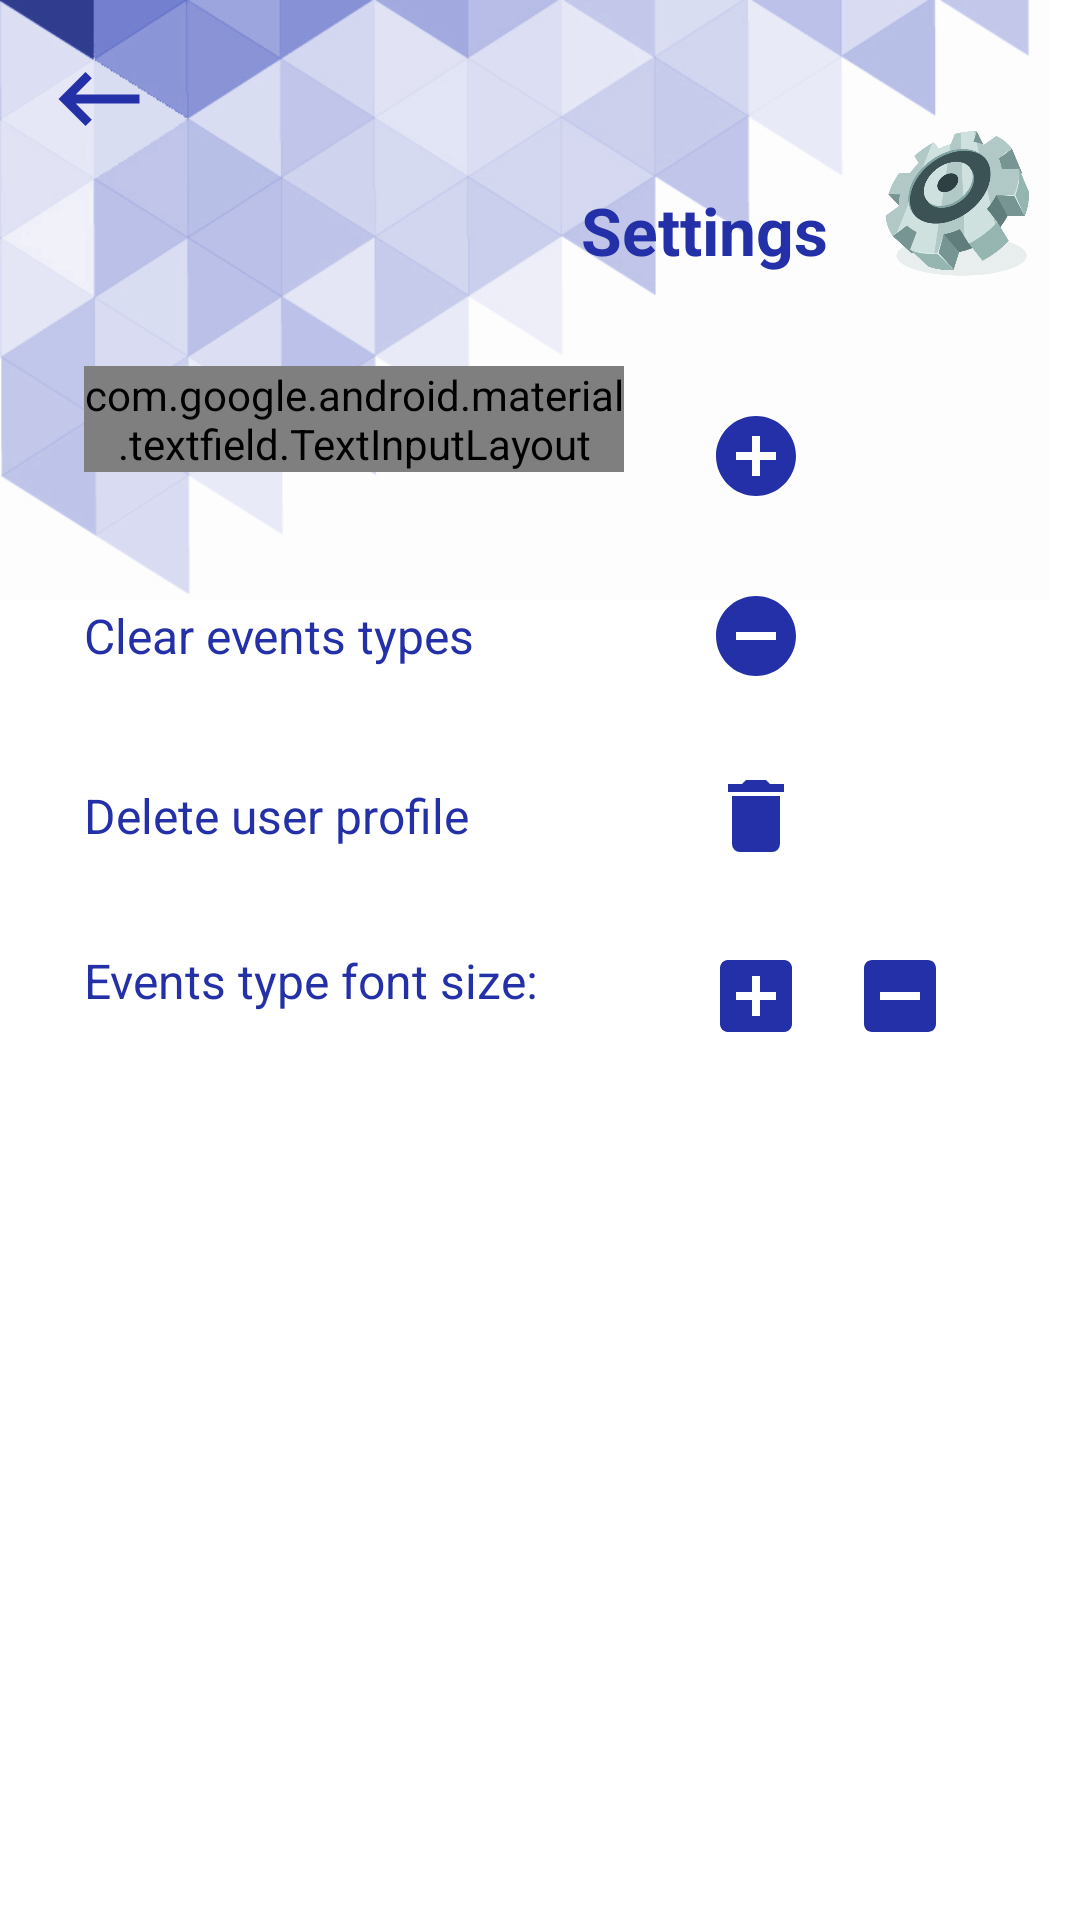

Icon click points for this 1080*1920 phone screenshot, format (x,y):
add box: (756,996)
backspace register: (99,99)
delete user: (756,816)
remove: (900,996)
remove circle: (756,636)
